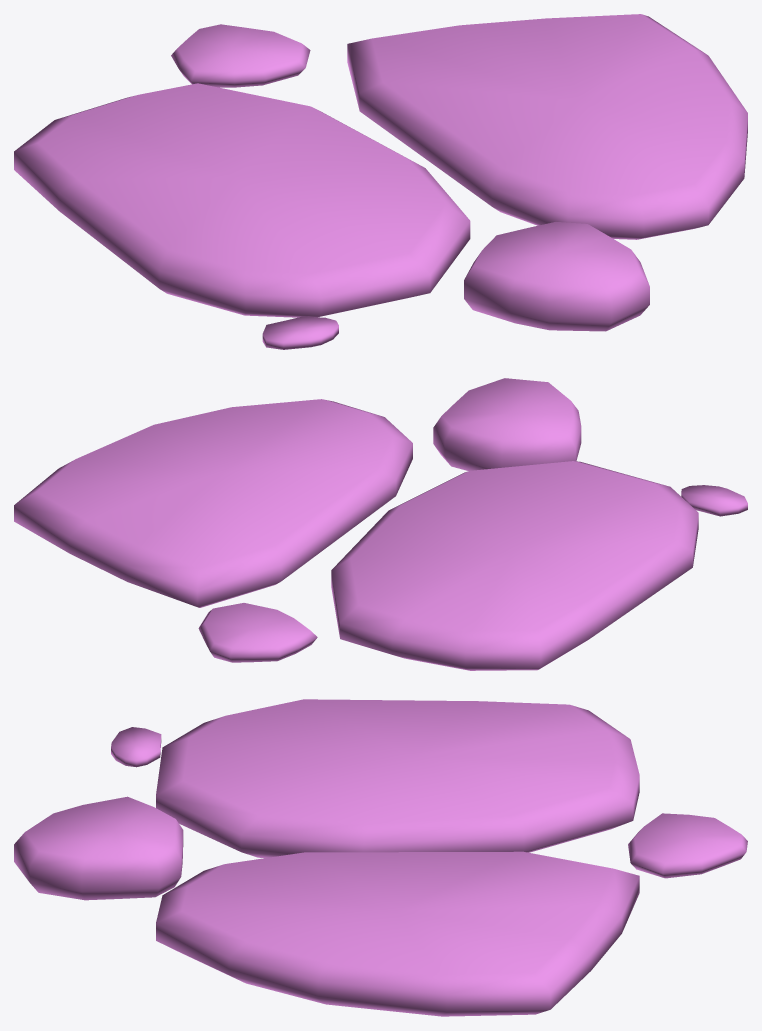
The model's file is Bstone3.fbx.
3 renders of one model, top to bottom at view 1: azimuth 30°, elevation 25°; view 2: azimuth 150°, elevation 25°; view 3: azimuth 270°, elevation 25°, orthographic. The views are drawn at different scales.
Visible parts, largest first — view 1: 3_set_stones_lowpoly.001; view 2: 3_set_stones_lowpoly.001; view 3: 3_set_stones_lowpoly.001.
Boxes of the visible parts, <box> form: 3_set_stones_lowpoly.001: <box>14,14,747,349</box>; 3_set_stones_lowpoly.001: <box>14,378,747,670</box>; 3_set_stones_lowpoly.001: <box>14,699,747,1016</box>.
Bounding box in the file's own units: 214 × 14.26 × 229.
